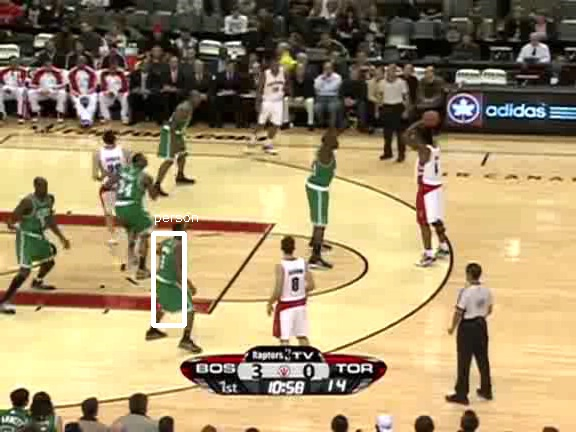person: (152, 238, 186, 319), (151, 238, 185, 319), (153, 238, 187, 319), (152, 237, 186, 318), (152, 239, 186, 320)
target_negative: (464, 31, 574, 426), (19, 40, 167, 191), (495, 82, 535, 347), (419, 205, 454, 318), (199, 195, 304, 215), (553, 112, 568, 145)
